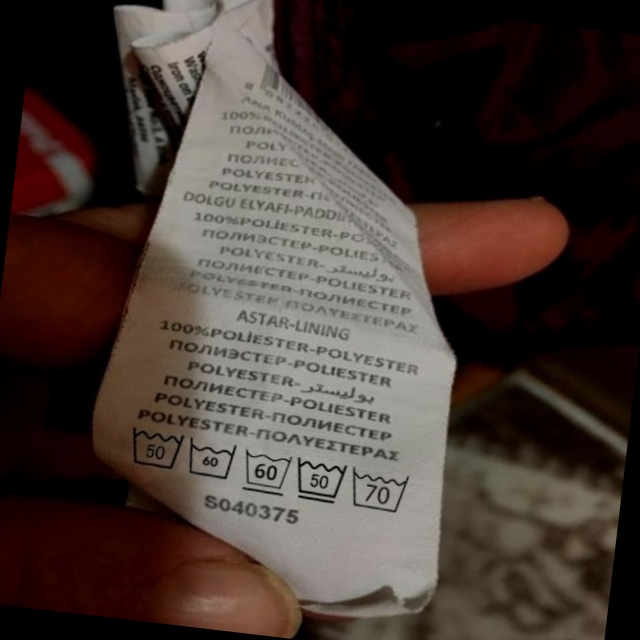50C: (122, 418, 189, 476), (290, 453, 351, 508)
60C: (239, 444, 297, 498), (183, 434, 242, 486)
70C: (347, 464, 416, 517)
